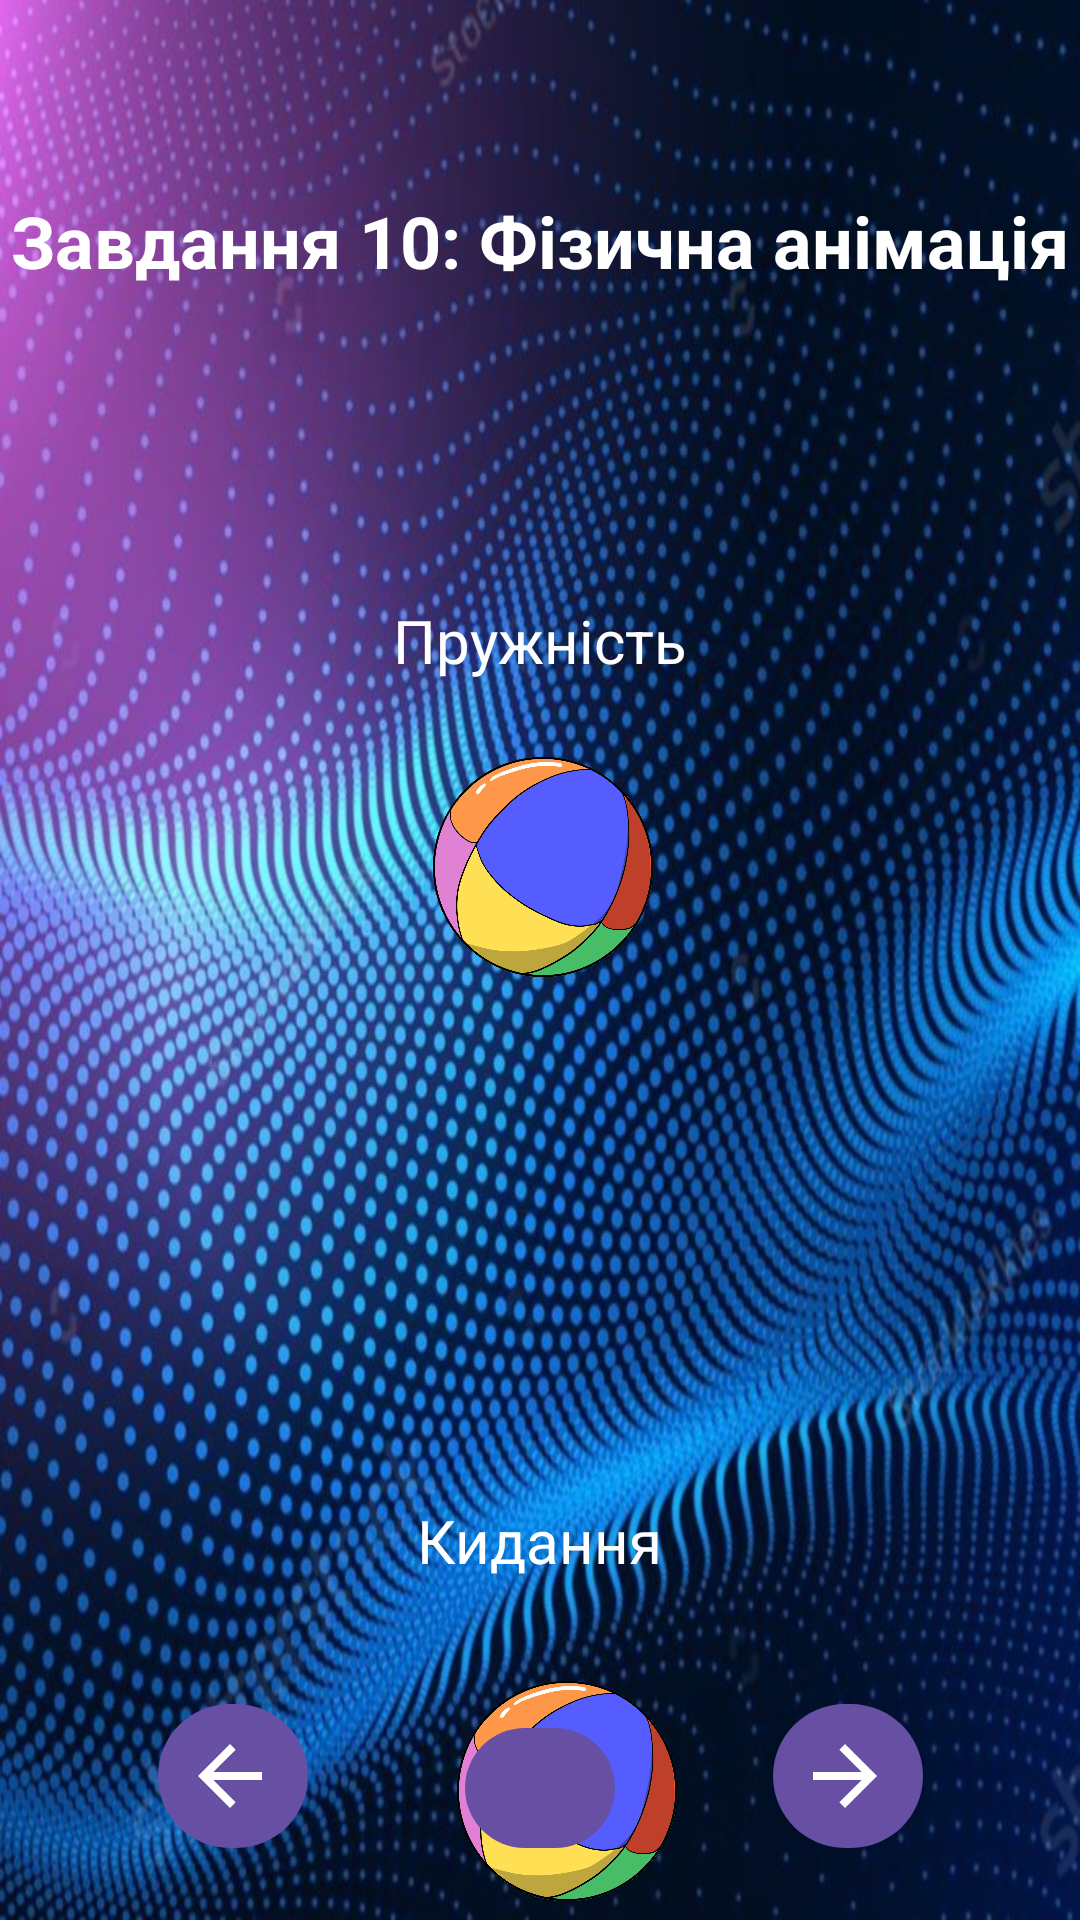

Where to tap for icons on this 1080 × 1920 app screen, as point (x, y):
Перейти вперед: point (848, 1776)
Повернутися назад: point (233, 1776)
